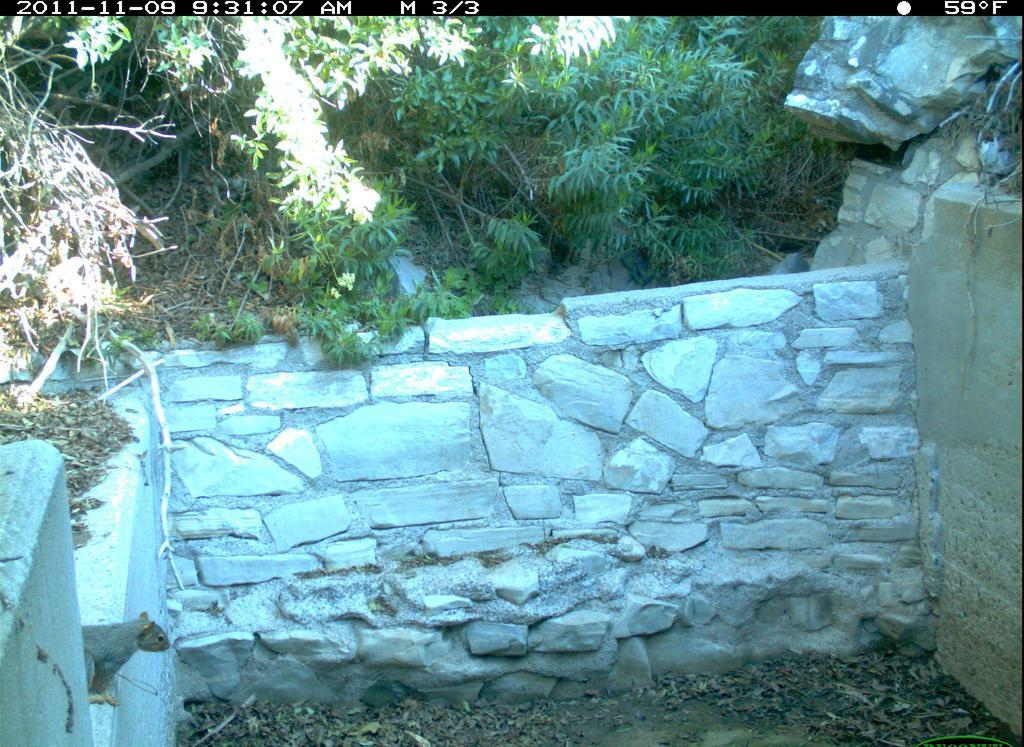squirrel: (71, 598, 181, 715)
